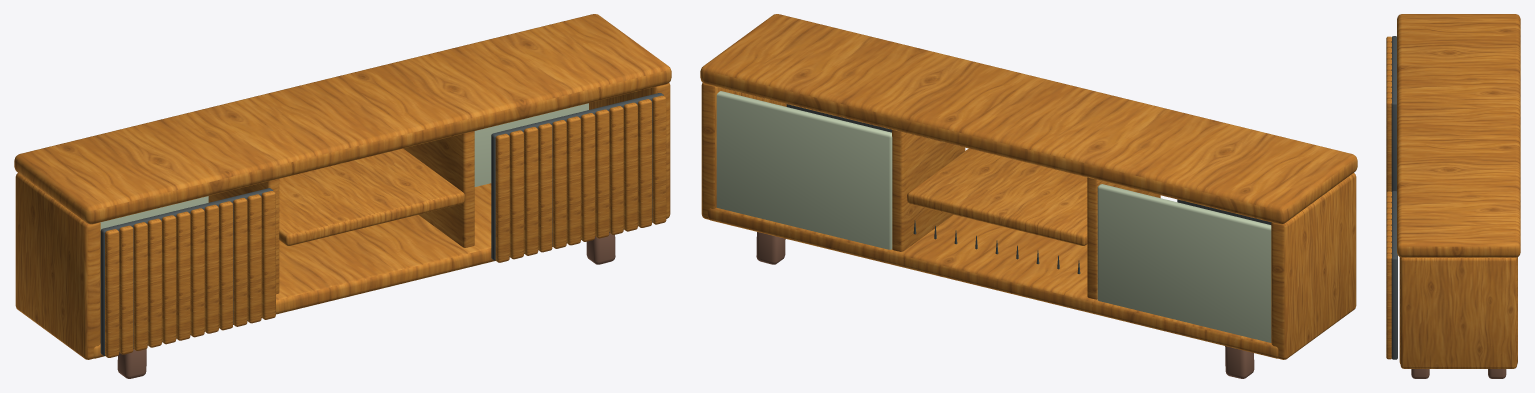
Rendered from slatted-tv-stand.glb.
3 views of the same model, side by side, from view 1: azimuth 30°, elevation 25°; view 2: azimuth 150°, elevation 25°; view 3: azimuth 270°, elevation 25° (orthographic). The views are drawn at different scales.
Visible parts, largest first — view 1: slatted-tv-stand; view 2: slatted-tv-stand; view 3: slatted-tv-stand.
Part boxes in pixels (<box>): slatted-tv-stand: <box>14,14,671,378</box>; slatted-tv-stand: <box>700,14,1357,378</box>; slatted-tv-stand: <box>1386,14,1520,378</box>.
Size of the model in its own units: 1.8 by 0.56 by 0.44.
Materials: 6 (1 with a texture image).
